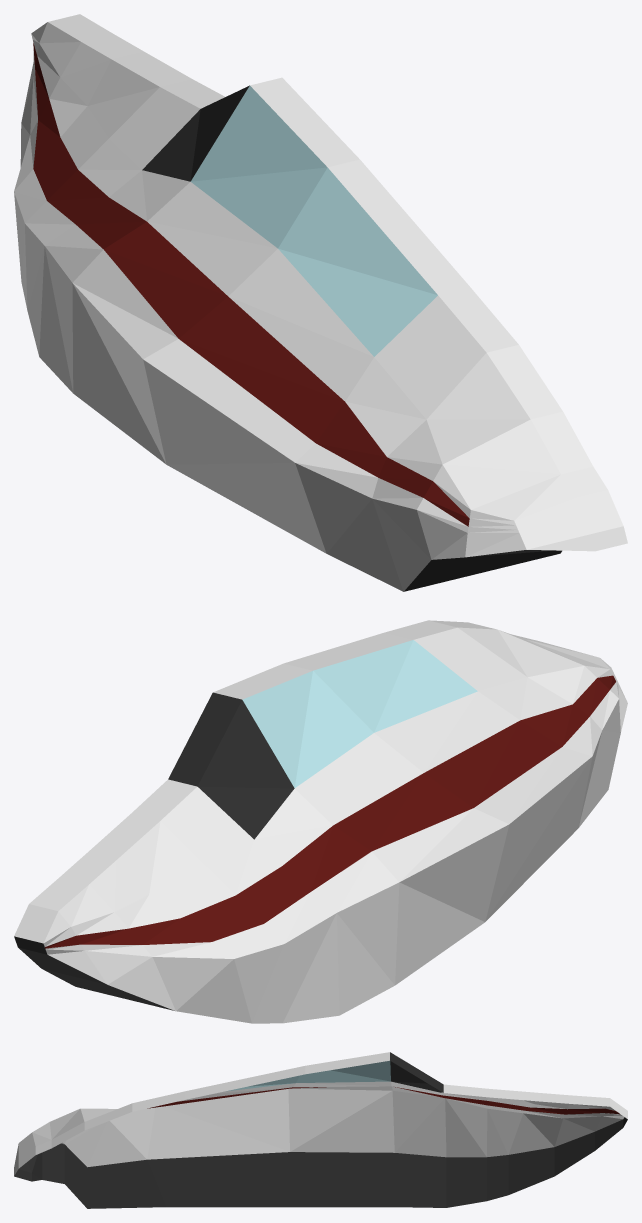
The model's file is boat.dae.
3 renders of one model, top to bottom at view 1: azimuth 30°, elevation 25°; view 2: azimuth 150°, elevation 25°; view 3: azimuth 270°, elevation 25°, orthographic. The views are drawn at different scales.
Parts seen in each view (by area): view 1: Plane; view 2: Plane; view 3: Plane.
Boxes of the visible parts, <box> form: Plane: <box>14,14,627,591</box>; Plane: <box>14,620,627,1023</box>; Plane: <box>14,1052,627,1208</box>.
Bounding box in the file's own units: 2.01 × 8.43 × 2.25.
